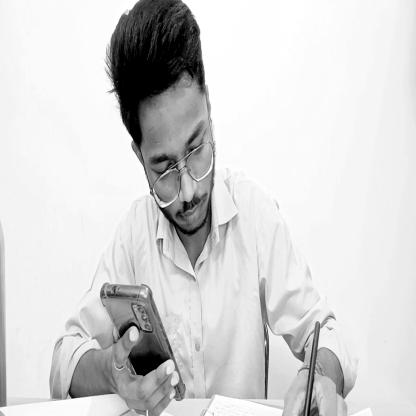Distracted: (108, 0, 218, 241)
